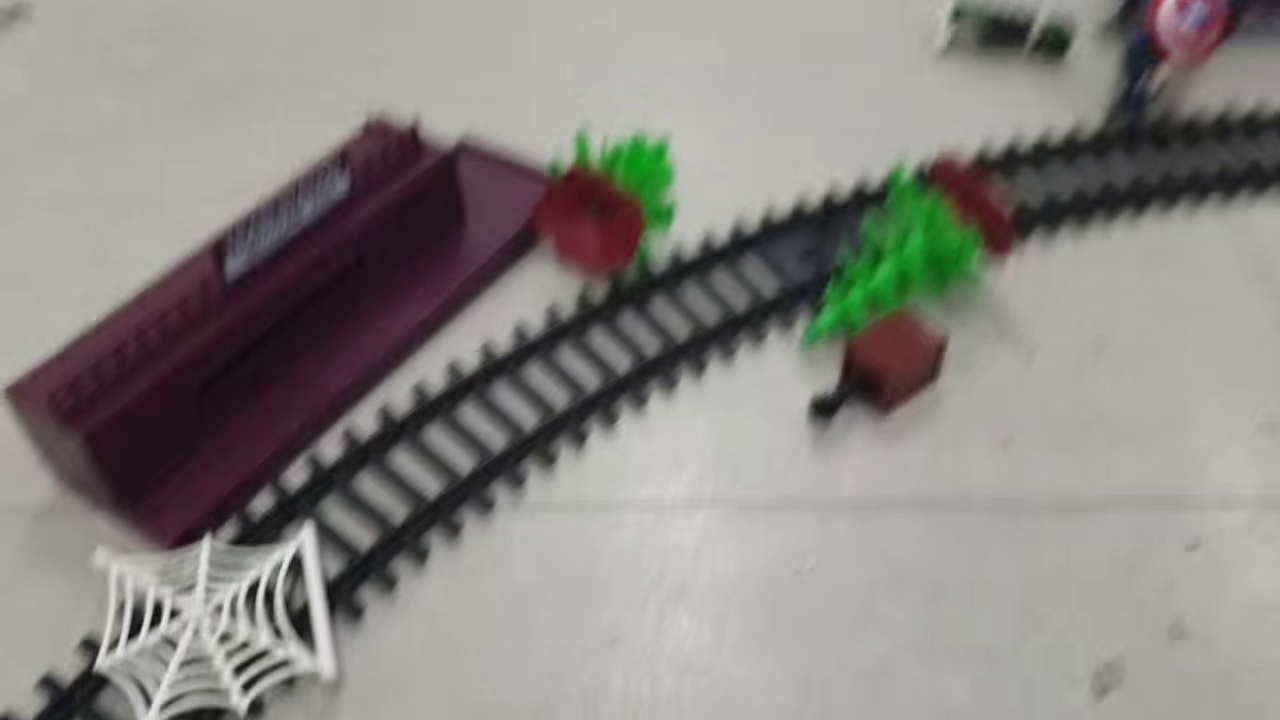box: (801, 306, 955, 429)
people: (1099, 1, 1239, 131), (935, 1, 1070, 60)
tree: (794, 156, 1014, 355), (544, 125, 676, 274)
web: (91, 517, 339, 720)
